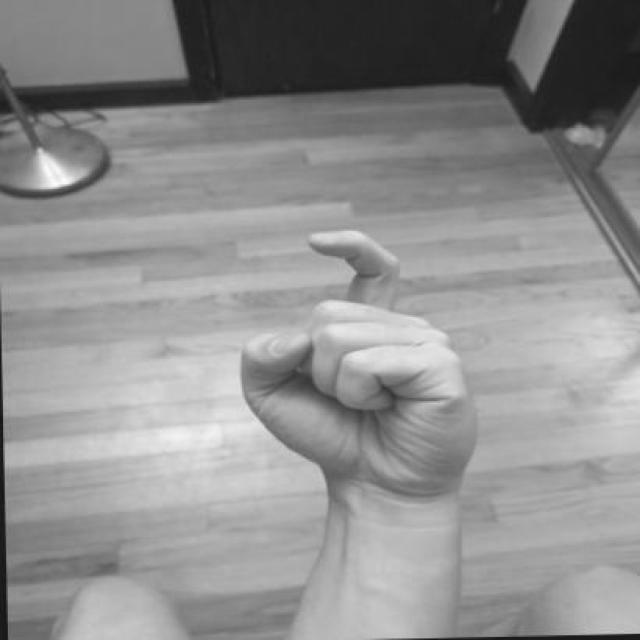X: (230, 224, 486, 507)
